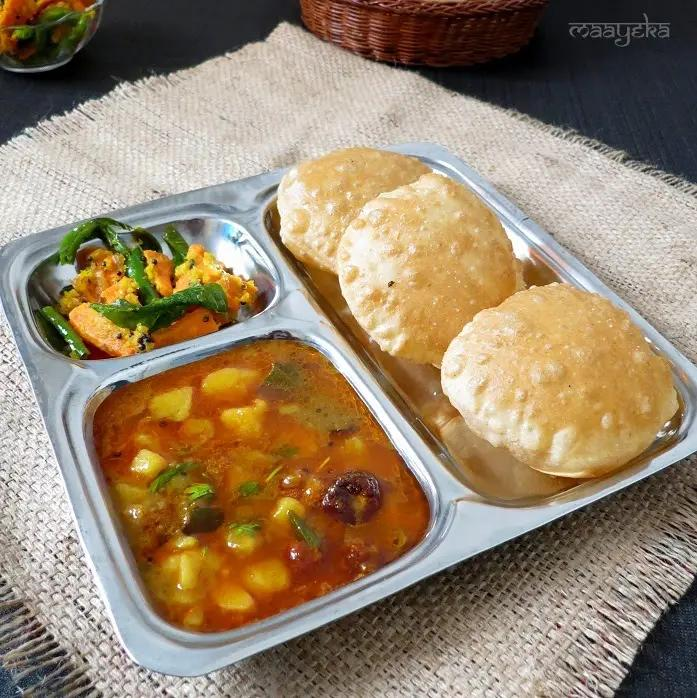puri: (290, 147, 672, 452)
